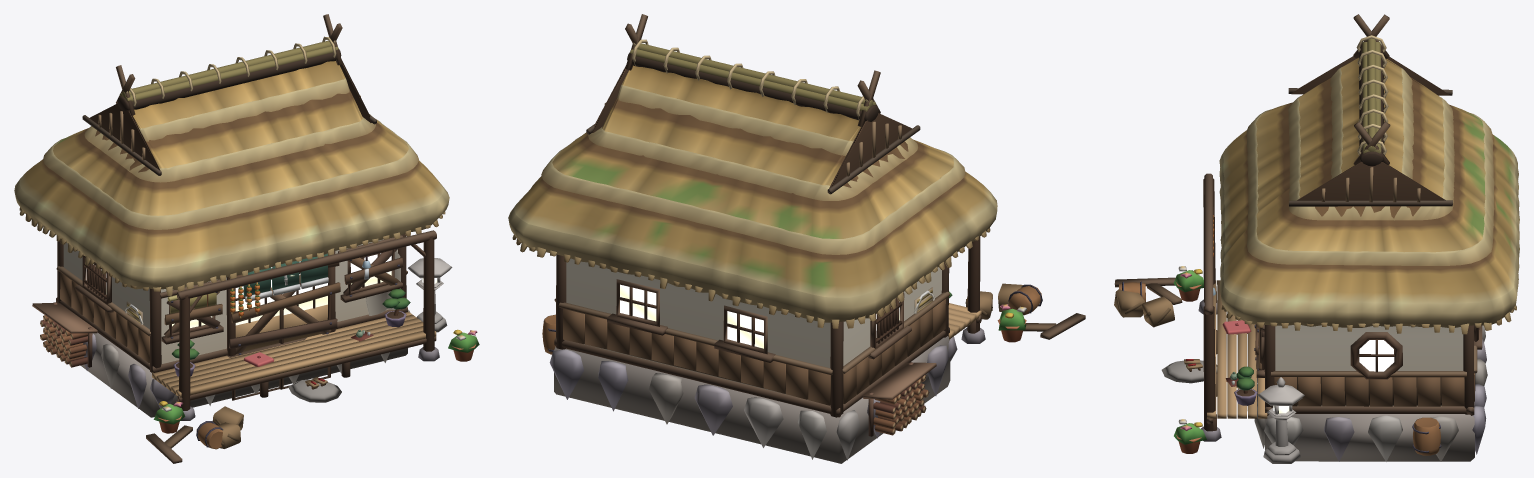
The model's file is zv-bamboo-elder.glb.
The picture shows the model from 3 angles, left to right: view 1: azimuth 30°, elevation 25°; view 2: azimuth 150°, elevation 25°; view 3: azimuth 270°, elevation 25°; orthographic projection. The views are drawn at different scales.
Visible parts, largest first — view 1: zv-bamboo-elder, siege, saved, window_glow; view 2: zv-bamboo-elder, siege, window_glow, saved; view 3: zv-bamboo-elder, siege, saved, window_glow.
Part boxes in pixels (x1,y1,x2,y2): zv-bamboo-elder: (14, 14, 452, 420); siege: (146, 239, 403, 463); saved: (153, 253, 479, 433); window_glow: (86, 253, 437, 327); zv-bamboo-elder: (508, 14, 997, 463); siege: (965, 283, 1085, 339); window_glow: (620, 284, 899, 348); saved: (997, 304, 1027, 342); zv-bamboo-elder: (1161, 14, 1519, 463); siege: (1114, 277, 1264, 370); saved: (1173, 266, 1251, 453); window_glow: (1273, 340, 1394, 413).
Size of the model in its own units: 5.49 by 4.6 by 5.18.
